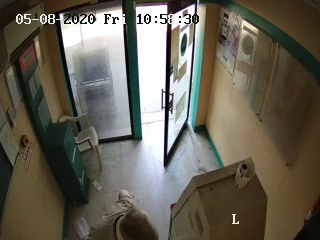open: (120, 1, 199, 176)
